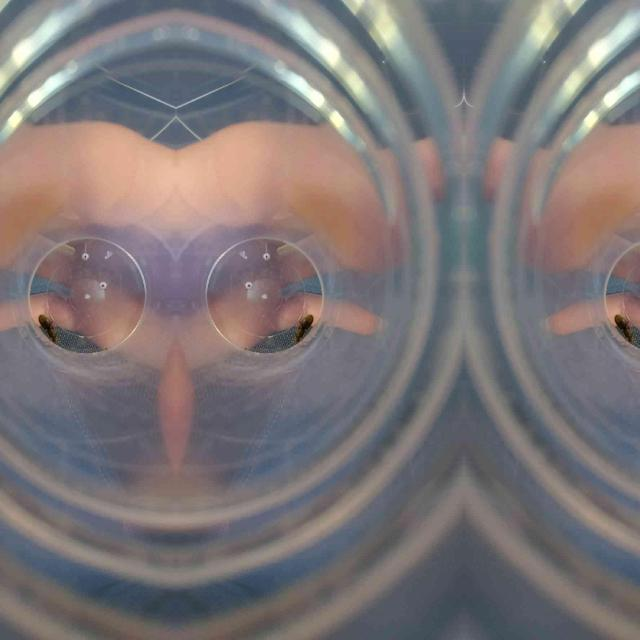Lasius: (288, 312, 318, 342), (32, 312, 62, 342), (608, 312, 638, 342)
